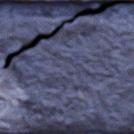brick: (0, 0, 114, 4)
broken_brick: (0, 17, 133, 133)
crack: (2, 0, 133, 69)
